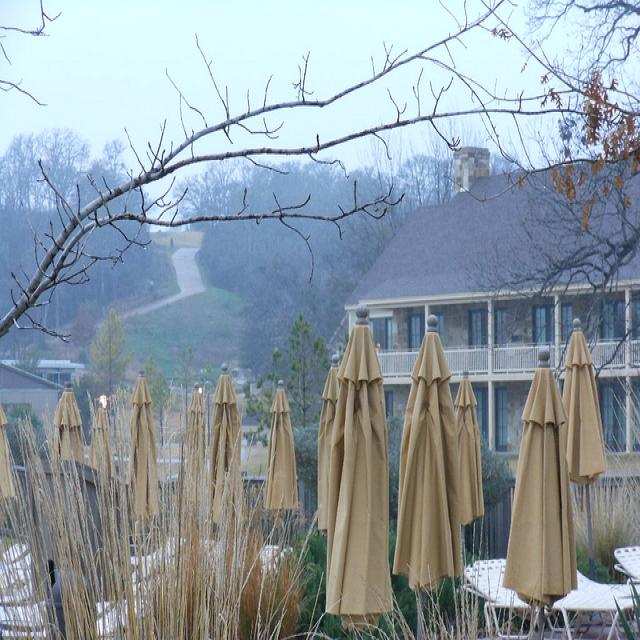chair: (464, 552, 640, 640)
umbrella: (393, 310, 465, 630), (326, 298, 392, 633), (504, 345, 579, 610), (202, 362, 252, 528), (560, 317, 609, 484), (174, 383, 202, 640), (262, 379, 301, 551), (125, 372, 164, 519), (454, 370, 485, 528), (316, 355, 338, 537), (49, 380, 86, 463), (1, 407, 15, 501)
